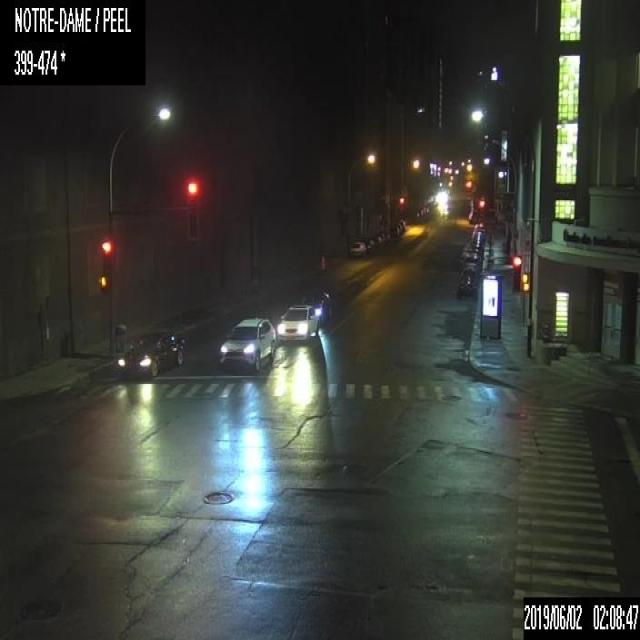construction: (320, 256, 325, 275)
vehicle: (116, 326, 189, 374), (218, 317, 275, 371), (276, 305, 317, 340), (300, 290, 332, 328), (458, 261, 478, 285), (456, 282, 477, 298), (464, 252, 482, 268), (350, 240, 366, 258), (468, 248, 483, 258)
